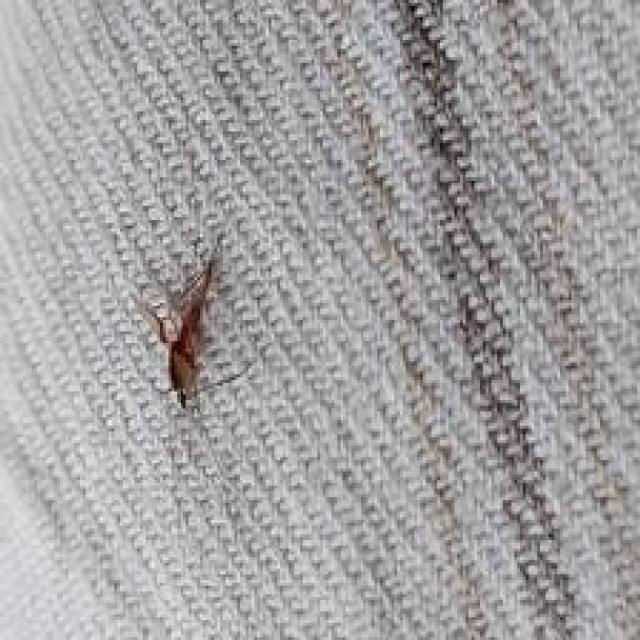Culex: (133, 234, 250, 412)
